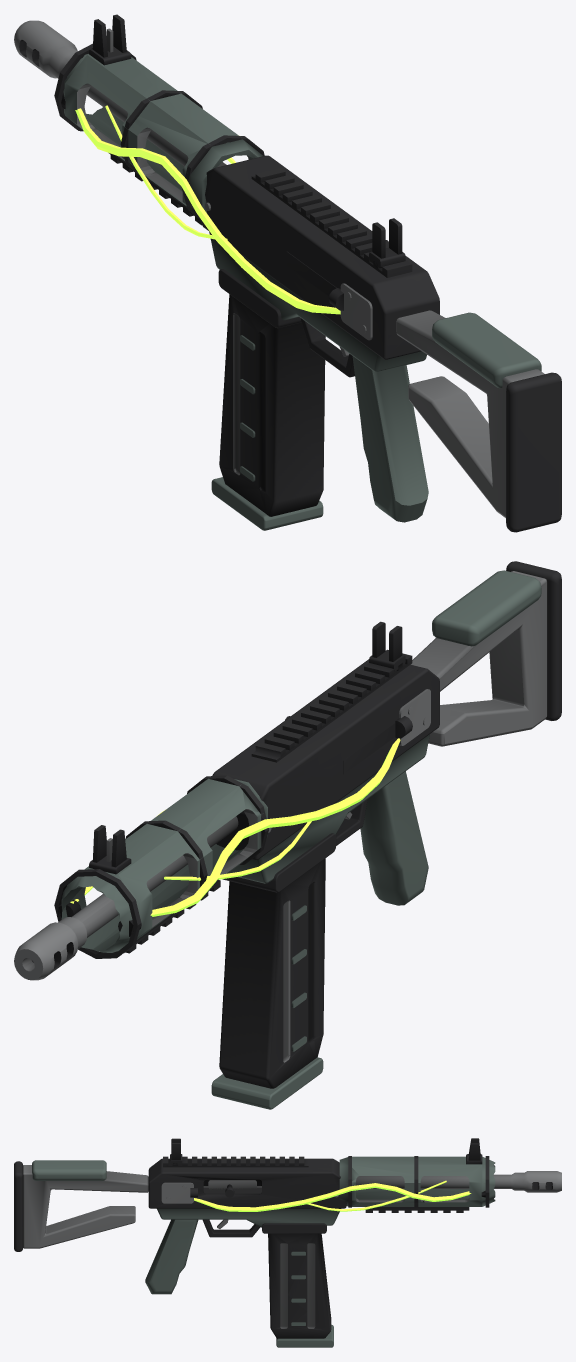
File: synapse.glb
The picture shows the model from 3 angles, top to bottom: view 1: azimuth 30°, elevation 25°; view 2: azimuth 150°, elevation 25°; view 3: azimuth 270°, elevation 25°; orthographic projection. The views are drawn at different scales.
Parts seen in each view (by area): view 1: Receiver, Stock, Magazine, Grip, Cabling, Barrel, IronSights; view 2: Receiver, Magazine, Stock, Grip, Barrel, Cabling, IronSights; view 3: Receiver, Stock, Magazine, Barrel, Grip, Cabling, IronSights, Bolt.
Part boxes in pixels (left/top/right/bottom): Receiver: left=54, top=43, right=439, bottom=377; Stock: left=396, top=310, right=561, bottom=532; Magazine: left=211, top=294, right=325, bottom=530; Grip: left=352, top=356, right=428, bottom=522; Cabling: left=75, top=105, right=340, bottom=314; Barrel: left=14, top=20, right=226, bottom=167; IronSights: left=89, top=14, right=405, bottom=267; Receiver: left=54, top=649, right=439, bottom=958; Magazine: left=211, top=858, right=325, bottom=1109; Stock: left=411, top=561, right=561, bottom=746; Grip: left=360, top=771, right=428, bottom=905; Barrel: left=14, top=816, right=238, bottom=980; Cabling: left=70, top=738, right=400, bottom=916; IronSights: left=89, top=621, right=405, bottom=874; Receiver: left=148, top=1156, right=495, bottom=1237; Stock: left=14, top=1160, right=148, bottom=1251; Magazine: left=268, top=1233, right=333, bottom=1347; Barrel: left=356, top=1171, right=561, bottom=1192; Grip: left=145, top=1219, right=198, bottom=1294; Cabling: left=194, top=1180, right=471, bottom=1211; IronSights: left=170, top=1138, right=482, bottom=1164; Bolt: left=208, top=1180, right=256, bottom=1197.
Size of the model in its own units: 0.1016 by 0.339 by 0.846.
